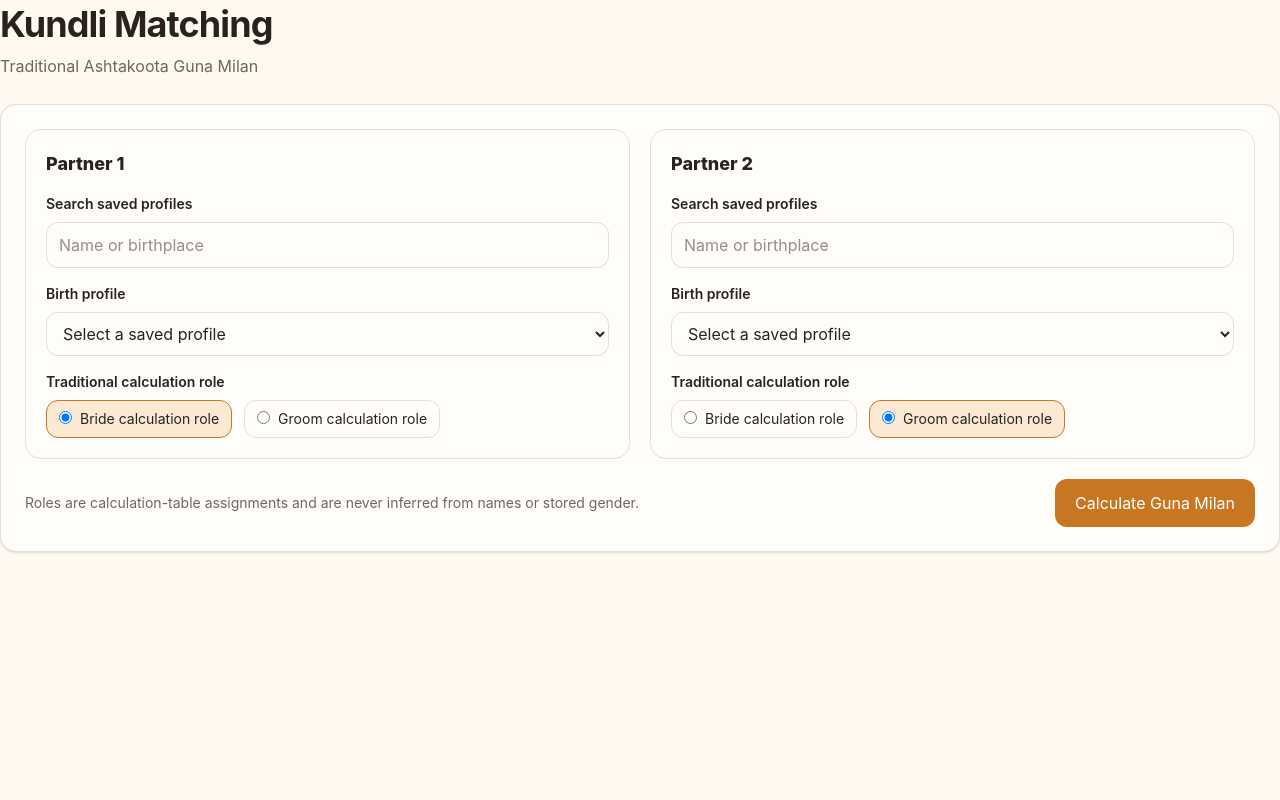
Test: MatchingPage › labels safe unknown-time resolution and shows real comparison fields
Select "Rohini Partner · Sangrur" in the 1st dropdown labelled "Birth profile" at (328, 334), box [46, 312, 609, 356]
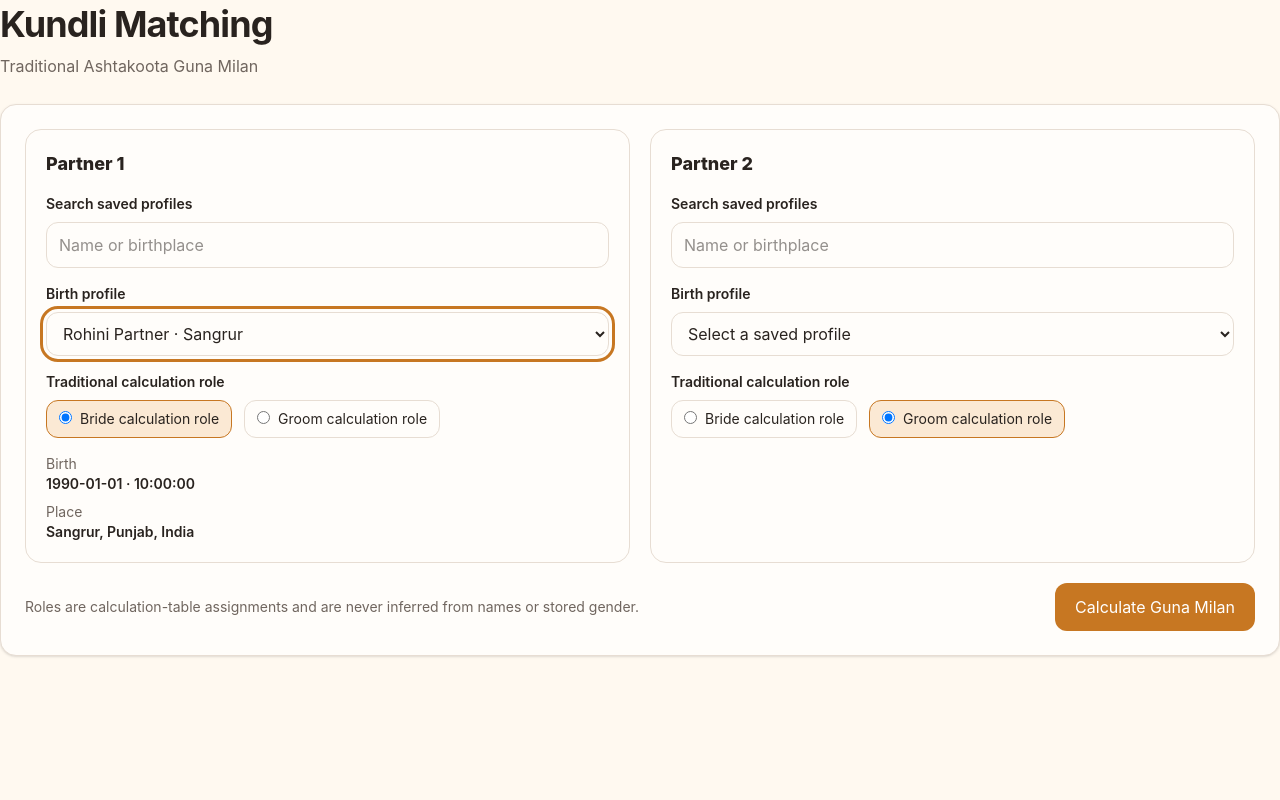
Select "Hasta Partner · Chandigarh" in the 2nd dropdown labelled "Birth profile" at (952, 334), box [671, 312, 1234, 356]
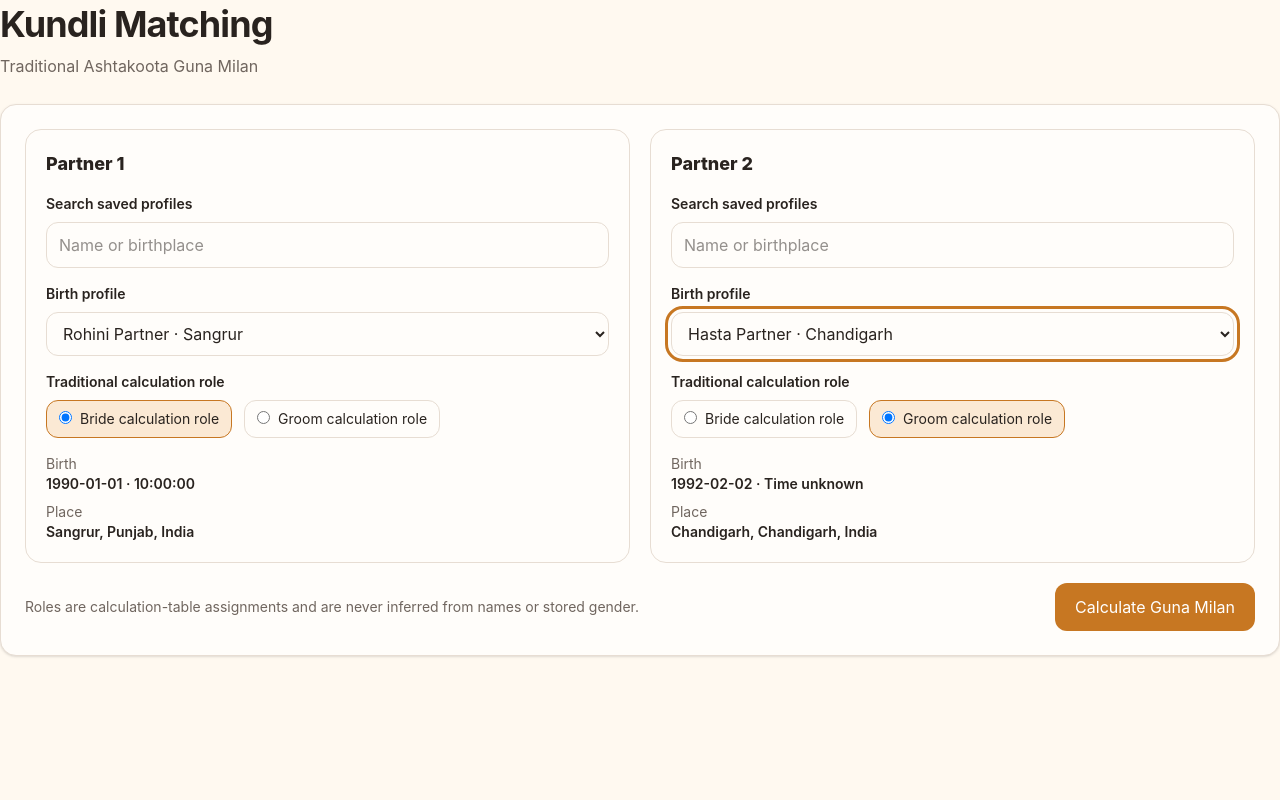
Click the button "Calculate Guna Milan" at (1155, 607), box [1055, 583, 1255, 631]
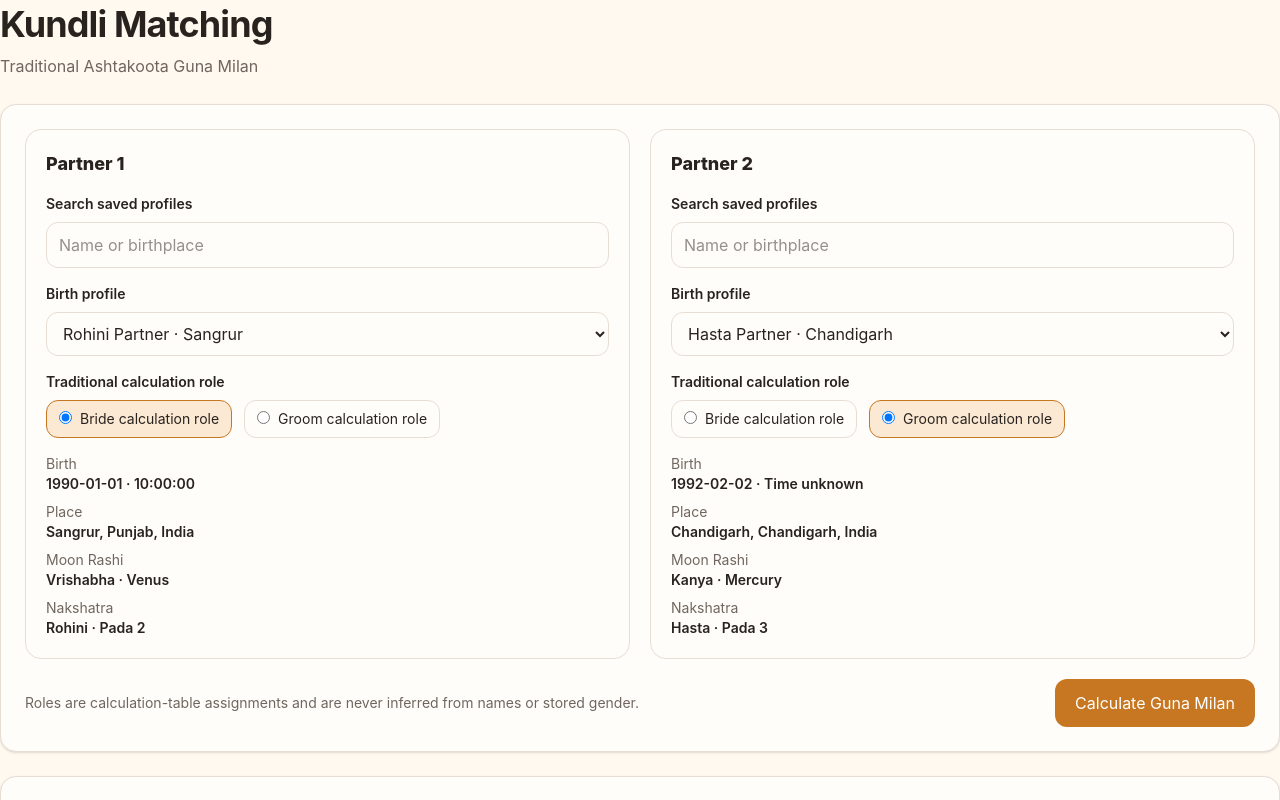
Check: the text "Kanya · Mercury" is shown, box [671, 571, 782, 588]
